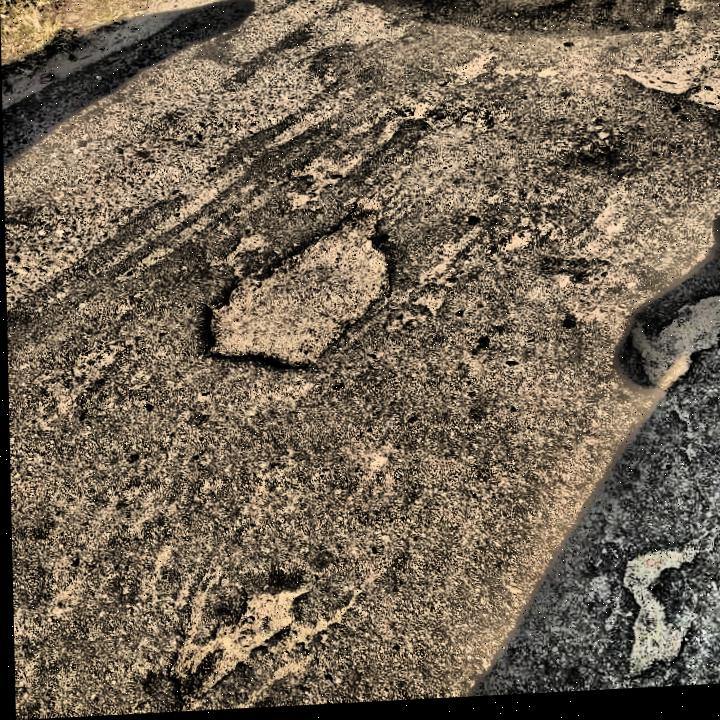pothole: (191, 195, 401, 380), (153, 584, 314, 713)
